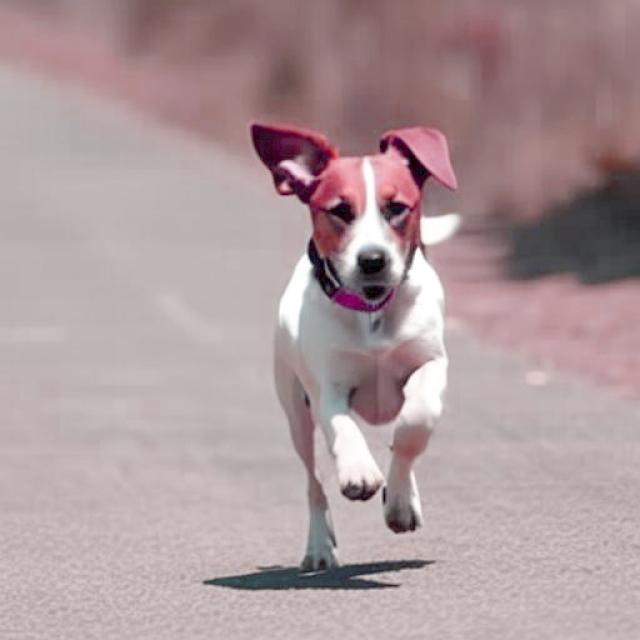Dog: (250, 122, 463, 576)
